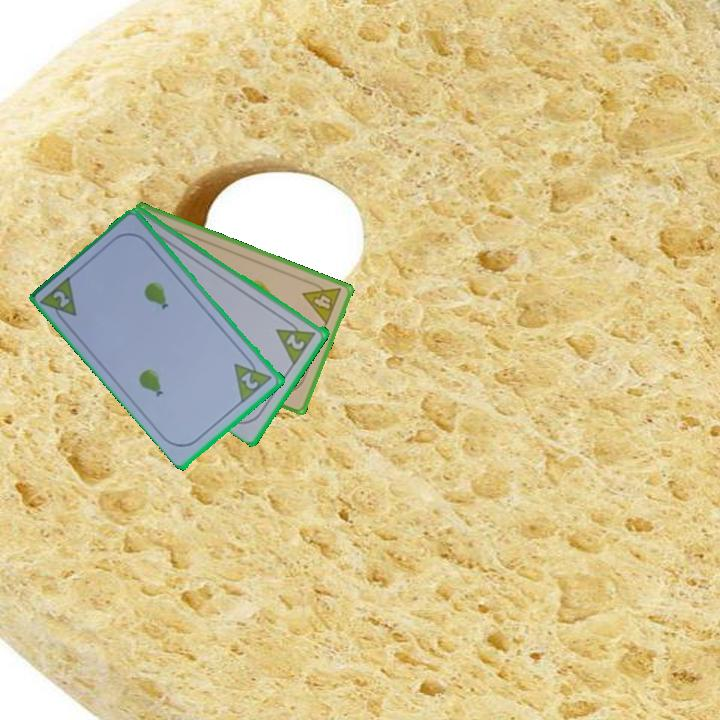2p: (238, 368, 262, 392), (49, 287, 73, 311), (283, 330, 308, 353)
4p: (299, 276, 345, 328)
